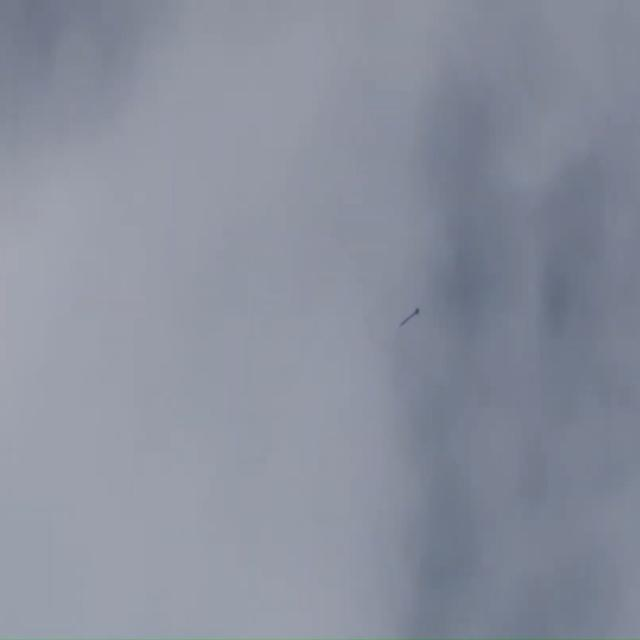Rocket: (400, 308, 420, 325)
